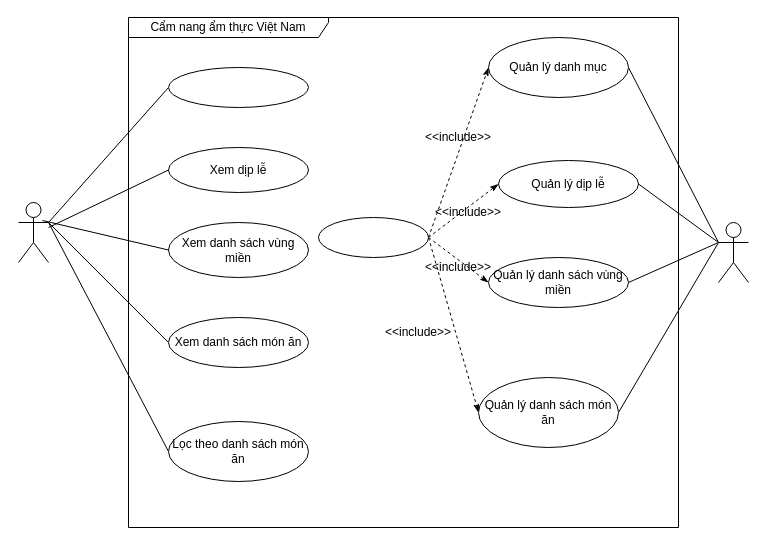
Some shapes in this 767 by 545 pixel diagram are drawn without their labels. The centre of each missing label's shape, as x and y in pixels:
Admin: the point at 733,252
Guest: the point at 33,232
Xem danh mục: the point at 238,87
Đăng nhập: the point at 373,237
